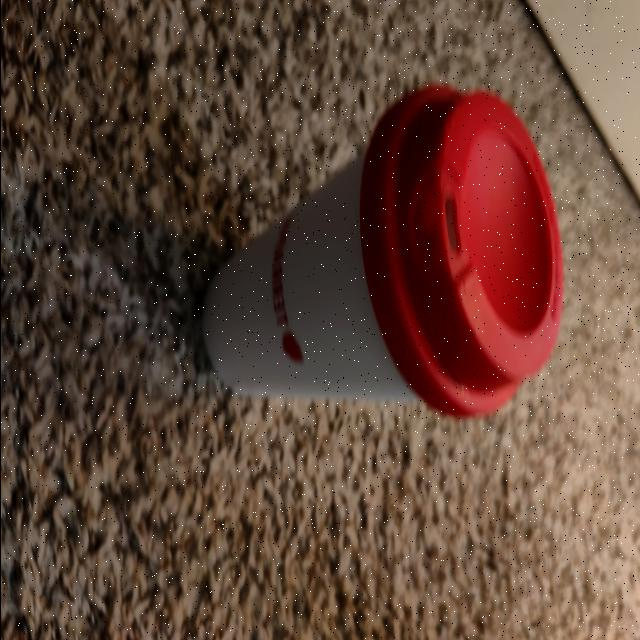mug: (193, 96, 558, 406)
